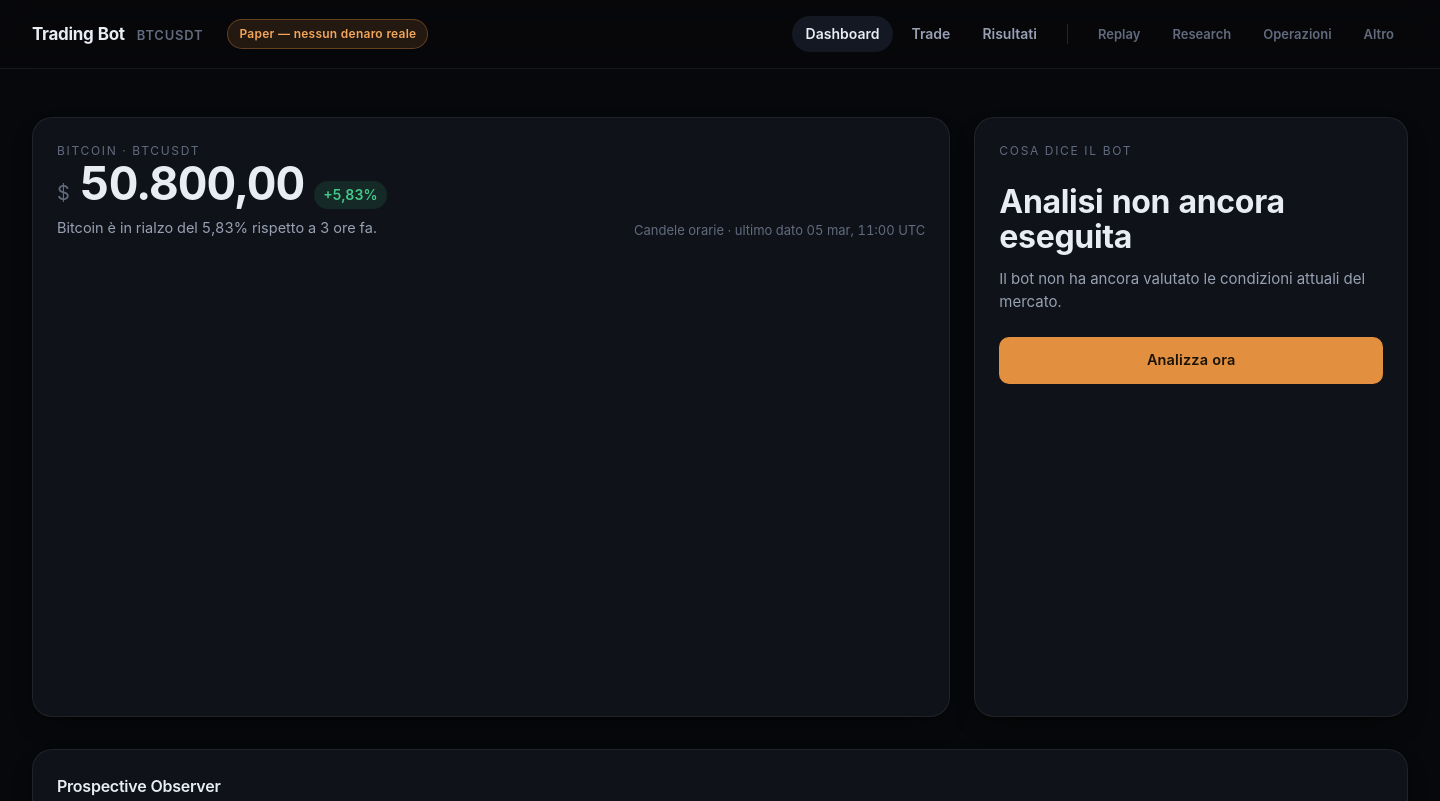
Test case: linguaggio e sicurezza › rivela i dettagli tecnici solo quando l’utente li apre
Expected: the text "Analisi non ancora eseguita" is shown, [999, 182, 1285, 256]
What coordinates should you click on to do the following:
click the button "Analizza ora"
I would click on:
 (1191, 360)
Its box is [999, 337, 1383, 384].
(page scrolled)
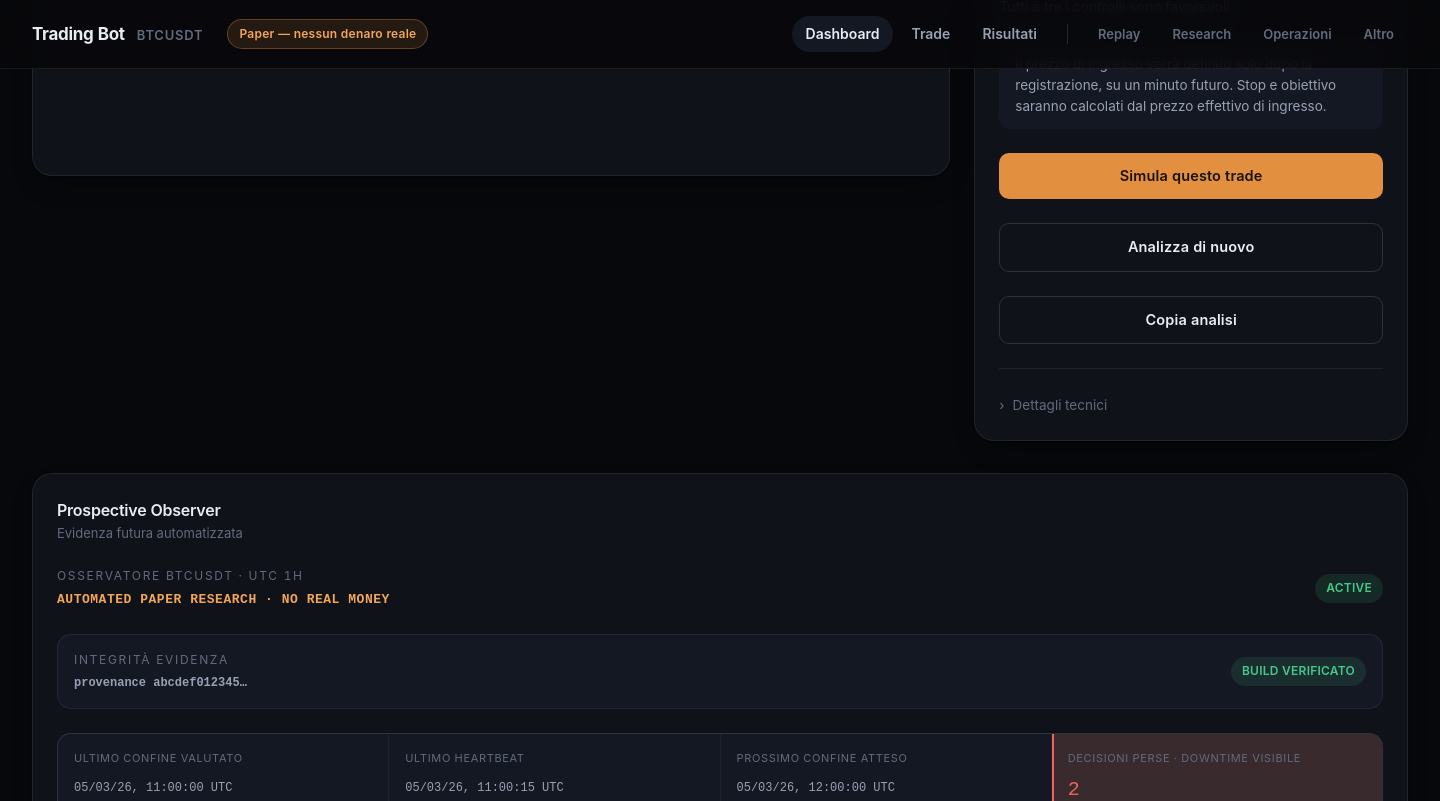
What coordinates should you click on to do the following:
click the heading "Dettagli tecnici"
I would click on:
 (1053, 406)
Its box is [999, 395, 1107, 416].
(page scrolled)
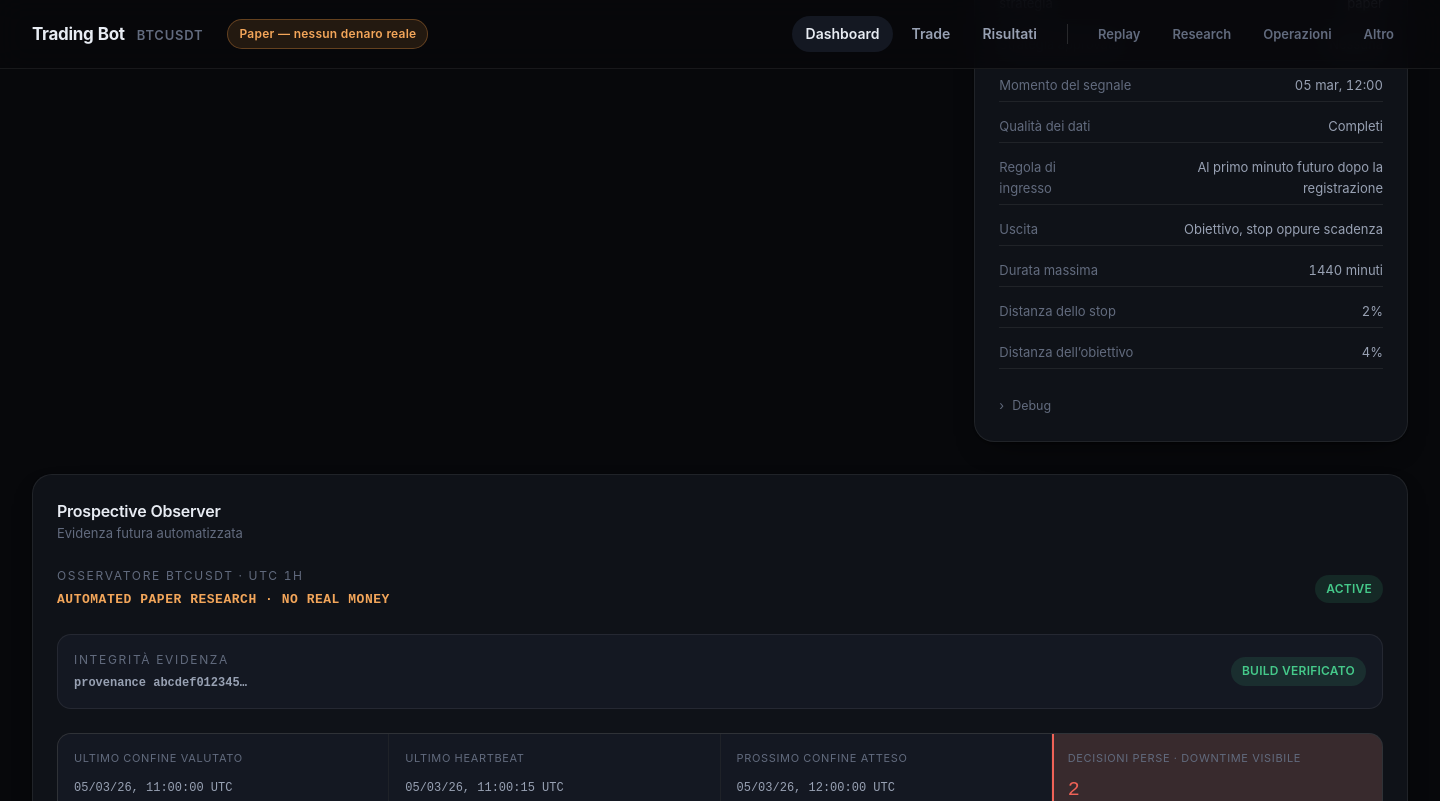
Result: the heading "Debug" is shown at [999, 396, 1051, 416]
